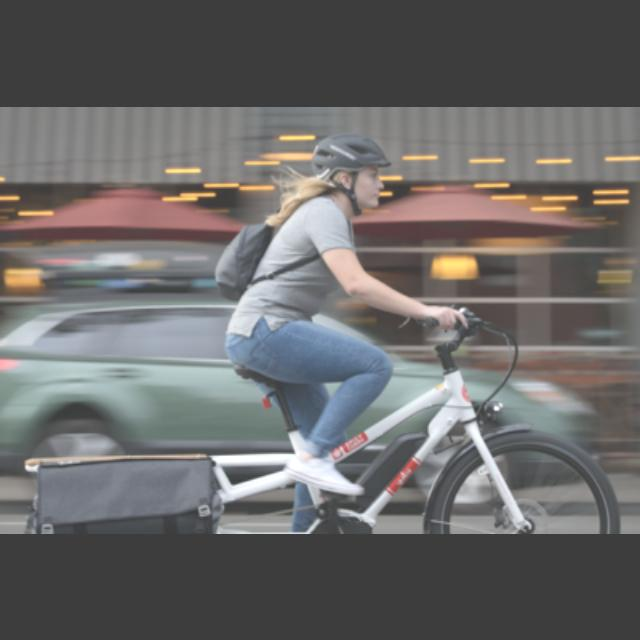With Helmet: (312, 130, 388, 212)
